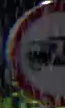Heavy Vehicles: (7, 0, 64, 106)
